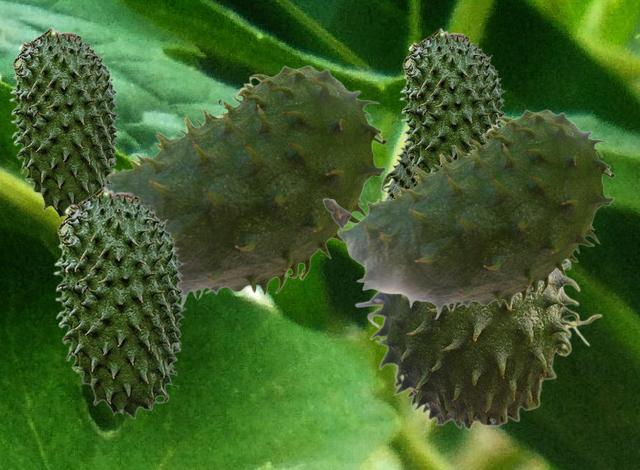guyabano: (108, 65, 386, 305), (322, 109, 614, 319), (354, 260, 602, 430), (53, 185, 186, 418), (9, 26, 120, 220), (399, 27, 507, 175), (379, 143, 416, 199)
